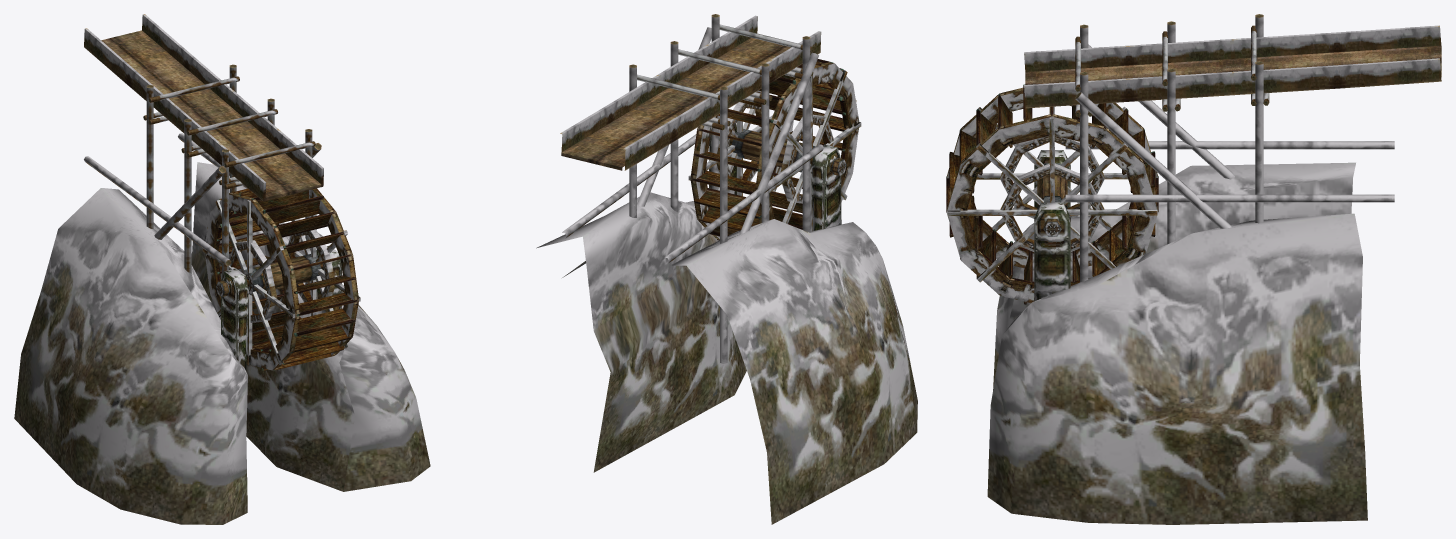
File: general_obj_watermill.glb
The picture shows the model from 3 angles, left to right: view 1: azimuth 30°, elevation 25°; view 2: azimuth 150°, elevation 25°; view 3: azimuth 270°, elevation 25°; orthographic projection. The views are drawn at different scales.
Visible parts, largest first — view 1: Sphere01, Sphere02; view 2: Sphere01, Sphere02; view 3: Sphere01, Sphere02.
Boxes of the visible parts, x1=… form: Sphere01: x1=14, y1=14, x2=430, y2=524; Sphere02: x1=202, y1=188, x2=360, y2=370; Sphere01: x1=536, y1=14, x2=917, y2=524; Sphere02: x1=688, y1=59, x2=861, y2=240; Sphere01: x1=987, y1=14, x2=1441, y2=524; Sphere02: x1=946, y1=84, x2=1158, y2=304.
Bounding box in the file's own units: 19.15 × 20.54 × 23.05.
Materials: 2 (2 with a texture image).
